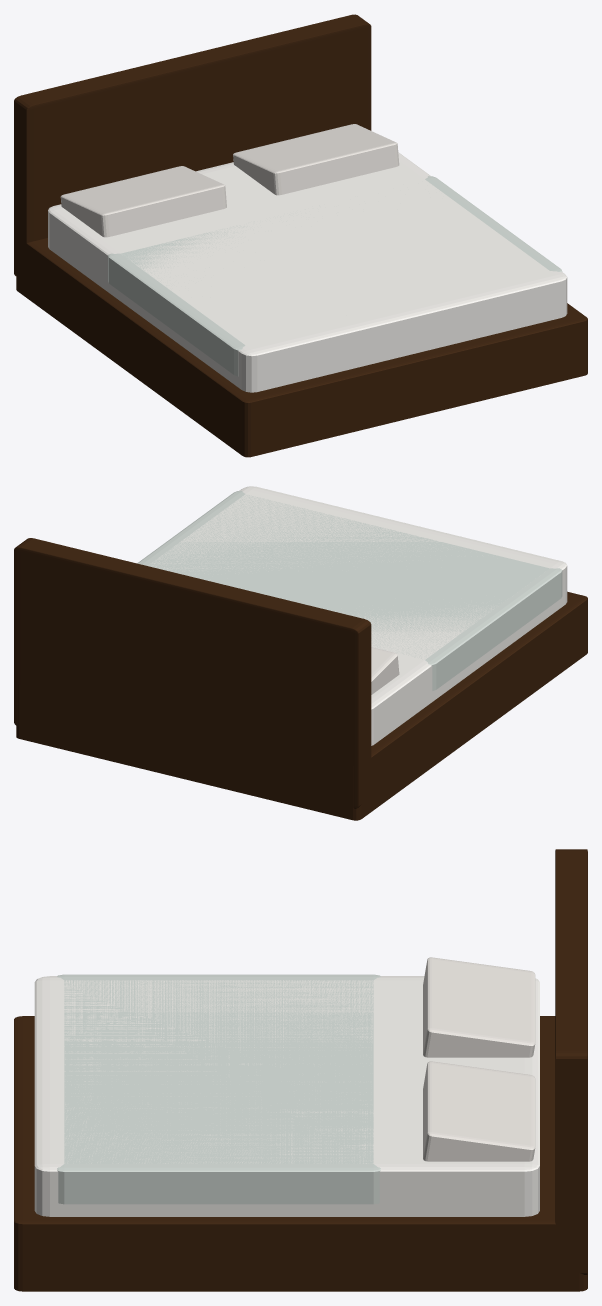
The model's file is bed_double.glb.
The picture shows the model from 3 angles, top to bottom: view 1: azimuth 30°, elevation 25°; view 2: azimuth 150°, elevation 25°; view 3: azimuth 270°, elevation 25°; orthographic projection. The views are drawn at different scales.
Parts seen in each view (by area): view 1: Cube.002, Cube.001, Cube, Cube.003, Cube.004, Cube.005; view 2: Cube.001, Cube.003, Cube, Cube.002, Cube.004; view 3: Cube.003, Cube, Cube.002, Cube.001, Cube.005, Cube.004.
Boxes of the visible parts, x1=… form: Cube.002: x1=48, y1=152, x2=567, y2=392; Cube.001: x1=14, y1=14, x2=371, y2=282; Cube: x1=16, y1=238, x2=587, y2=457; Cube.003: x1=108, y1=176, x2=562, y2=376; Cube.004: x1=60, y1=166, x2=226, y2=237; Cube.005: x1=233, y1=124, x2=399, y2=195; Cube.001: x1=14, y1=538, x2=371, y2=808; Cube.003: x1=137, y1=491, x2=562, y2=690; Cube: x1=16, y1=591, x2=587, y2=820; Cube.002: x1=148, y1=486, x2=567, y2=745; Cube.004: x1=371, y1=647, x2=399, y2=694; Cube.003: x1=57, y1=974, x2=380, y2=1204; Cube: x1=14, y1=1016, x2=587, y2=1291; Cube.002: x1=34, y1=976, x2=539, y2=1216; Cube.001: x1=555, y1=849, x2=587, y2=1274; Cube.005: x1=423, y1=1061, x2=535, y2=1161; Cube.004: x1=423, y1=957, x2=535, y2=1057.
Size of the model in its own units: 1.8 by 0.96 by 2.1.
